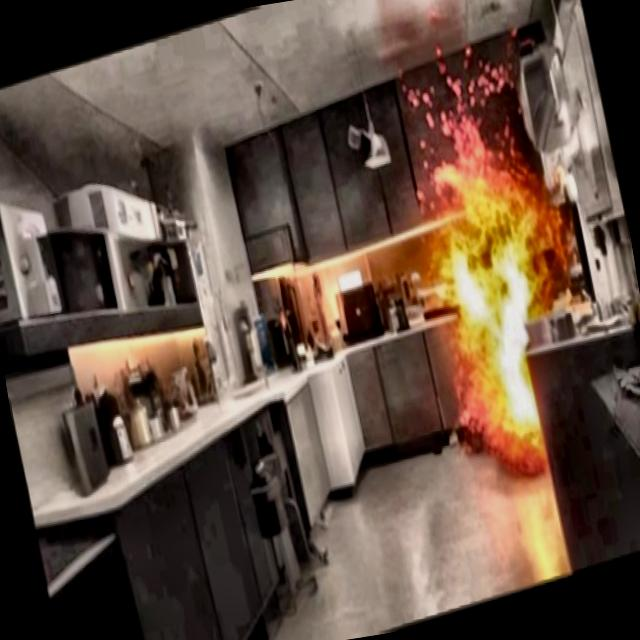fire: (384, 49, 624, 486)
